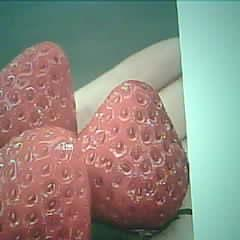straw-ripe: (79, 81, 189, 223), (0, 130, 91, 240), (0, 42, 77, 143)
